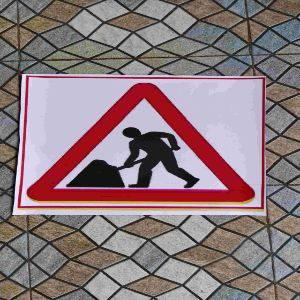men at work: (18, 72, 267, 216)
